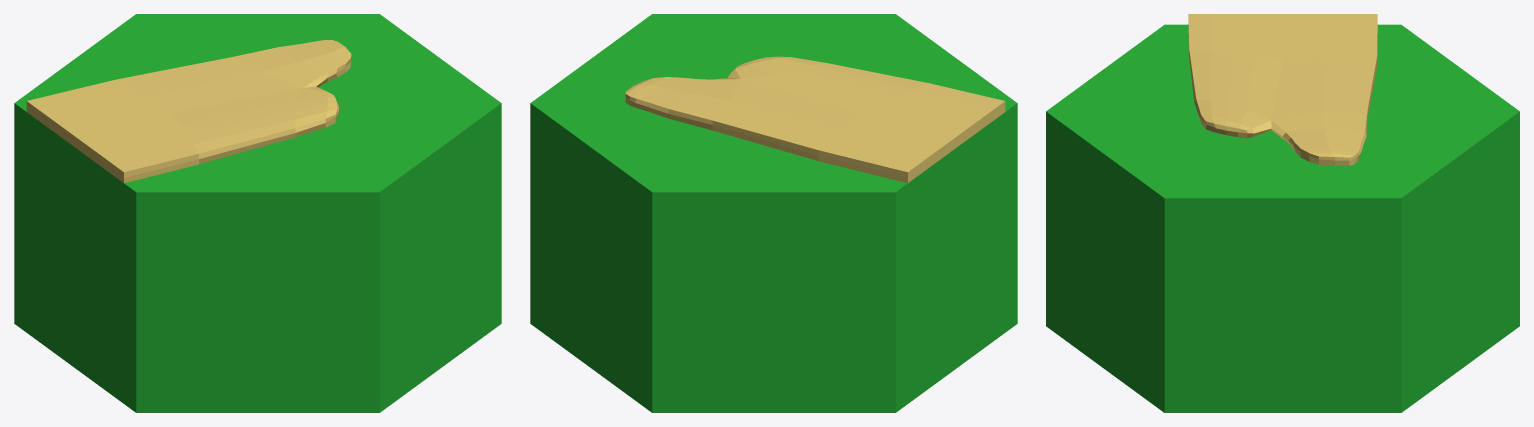
The model's file is module-corner_land_path_end.glb.
3 renders of one model, left to right at view 1: azimuth 30°, elevation 25°; view 2: azimuth 150°, elevation 25°; view 3: azimuth 270°, elevation 25°, orthographic. The views are drawn at different scales.
Visible parts, largest first — view 1: module-corner_land_path_end; view 2: module-corner_land_path_end; view 3: module-corner_land_path_end.
Boxes of the visible parts, <box> form: module-corner_land_path_end: <box>14,14,501,412</box>; module-corner_land_path_end: <box>530,14,1017,412</box>; module-corner_land_path_end: <box>1046,14,1519,412</box>.
Size of the model in its own units: 0.866 by 0.525 by 1.
